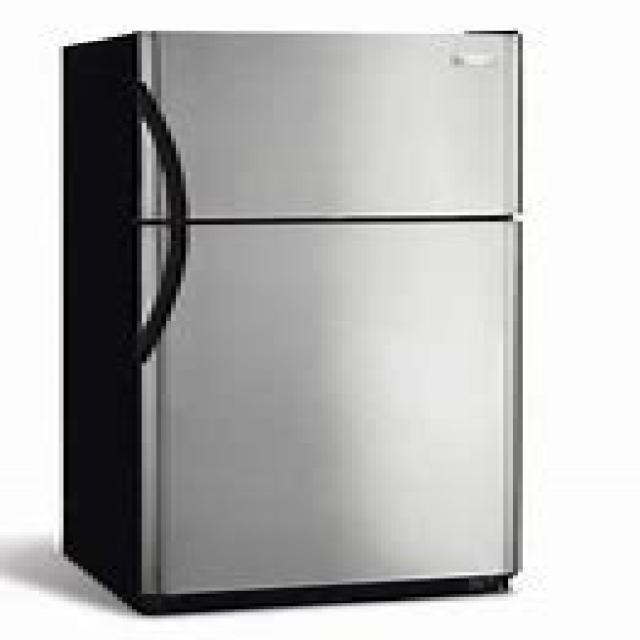fridge: (59, 28, 522, 612)
